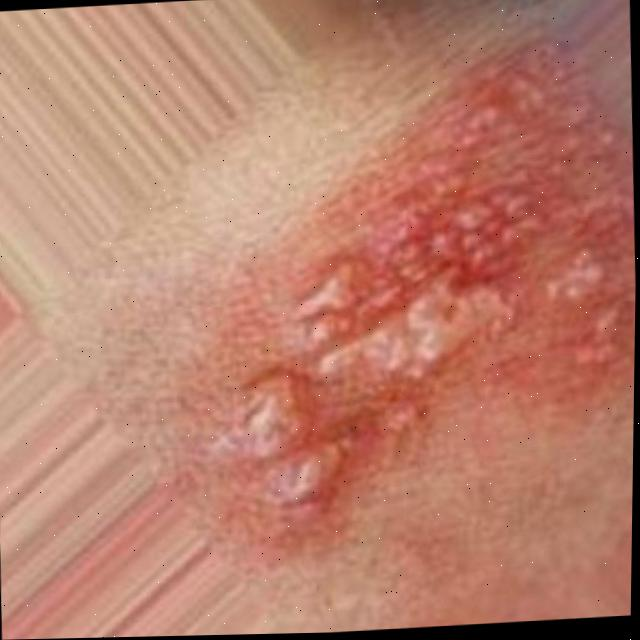Shingles: (182, 43, 639, 544)
